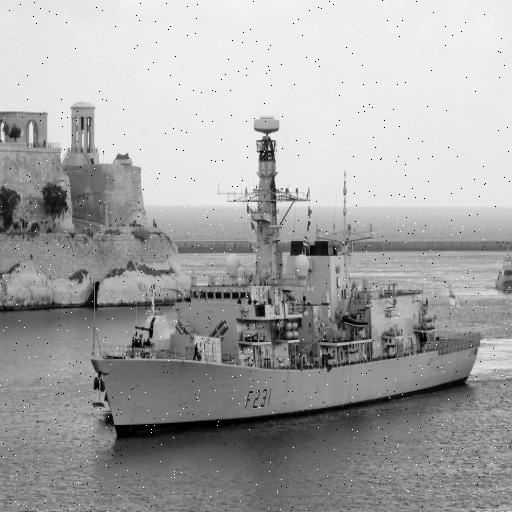Fragata: (88, 114, 483, 447)
